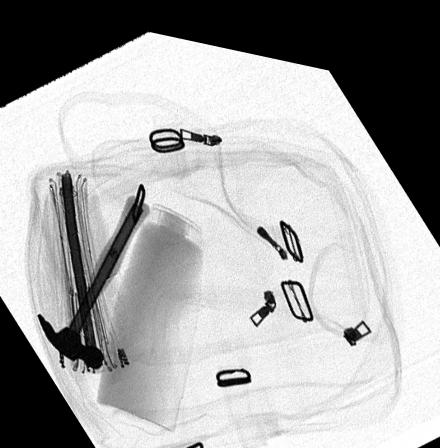Hammer: (35, 188, 151, 366)
